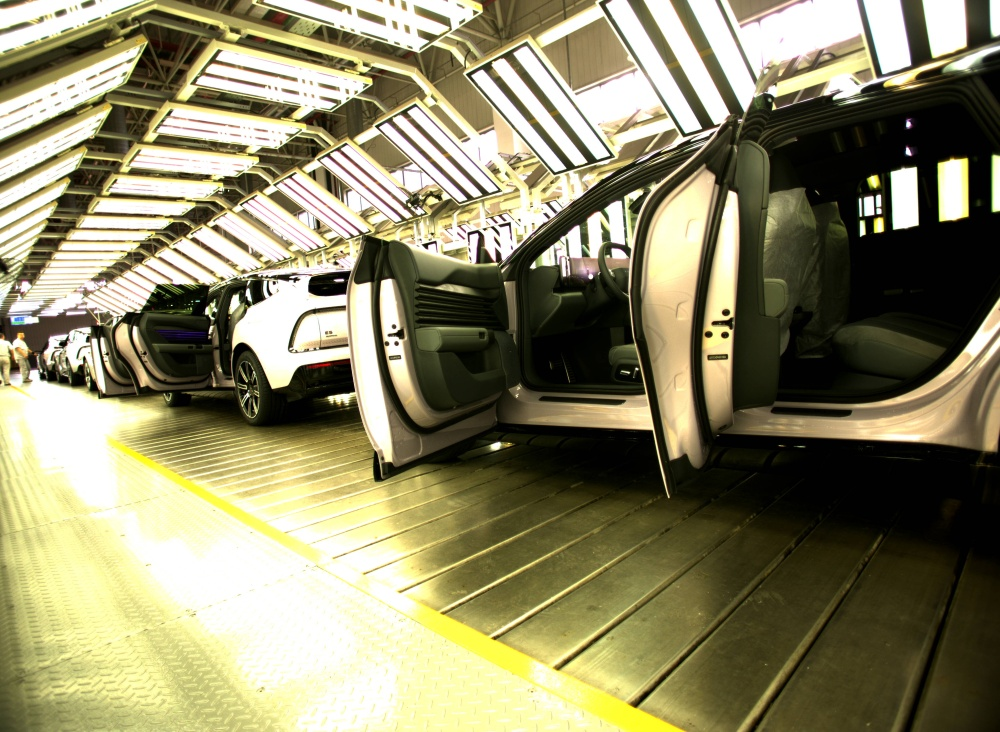armrest_color: (413, 325, 491, 353)
panel_color: (412, 278, 491, 329)
